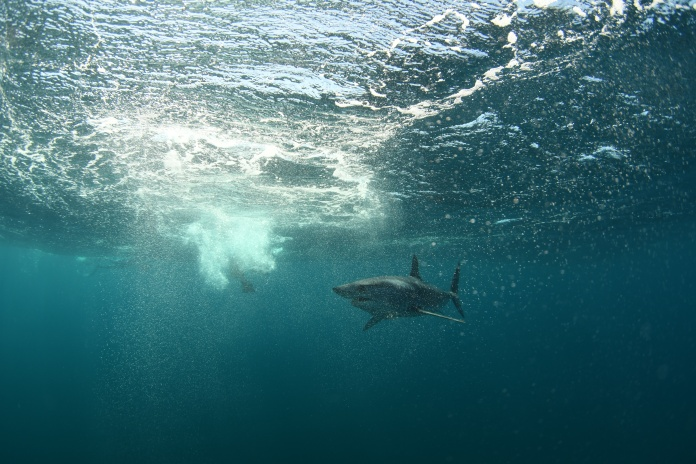Mako: (322, 249, 483, 336)
